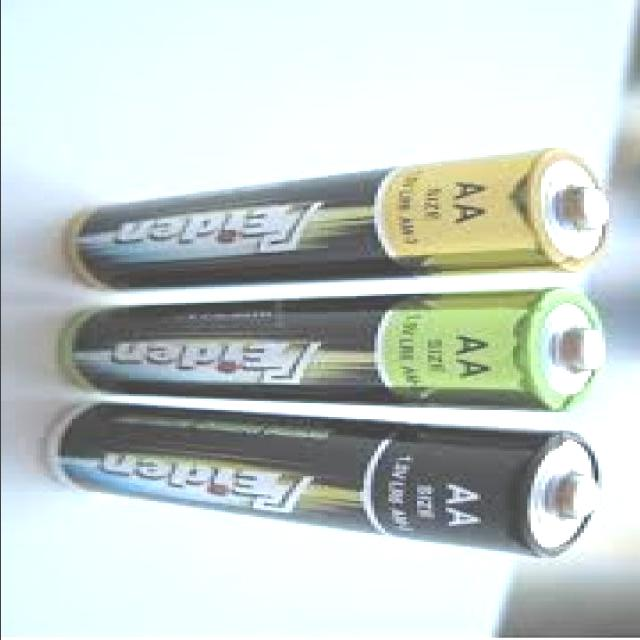AA: (68, 398, 598, 554), (75, 152, 604, 294), (78, 287, 608, 410)
